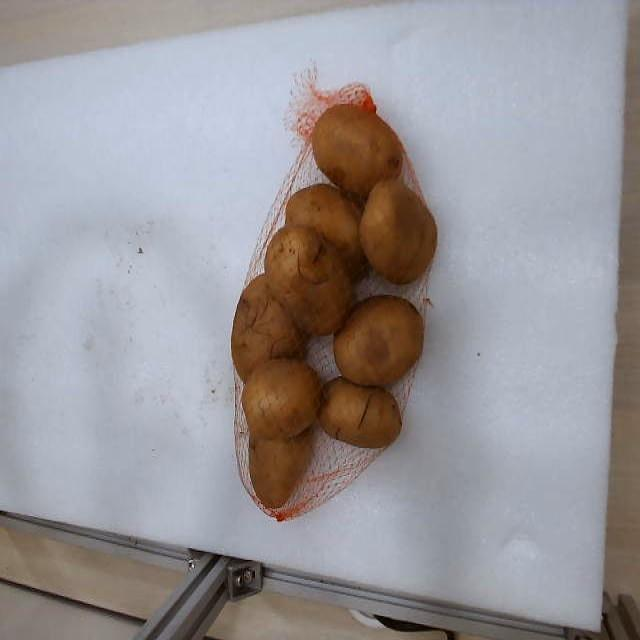potato: (265, 225, 352, 334), (311, 105, 401, 198), (359, 180, 438, 283), (231, 275, 306, 381), (334, 295, 421, 384), (287, 183, 366, 278), (242, 358, 321, 438), (318, 378, 402, 448), (249, 430, 312, 508)
